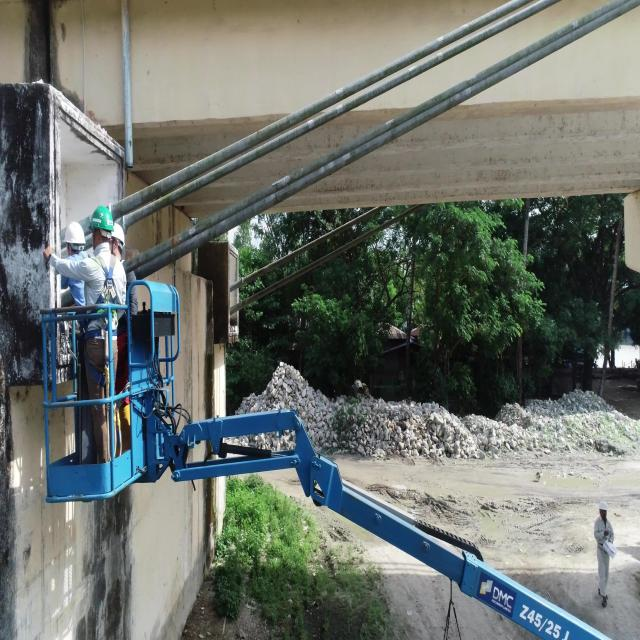corrosion: (170, 237, 174, 247), (175, 236, 179, 244), (135, 258, 139, 265), (257, 131, 259, 135)
crack: (207, 156, 209, 162), (178, 171, 180, 177), (238, 140, 239, 146), (229, 146, 231, 149)
